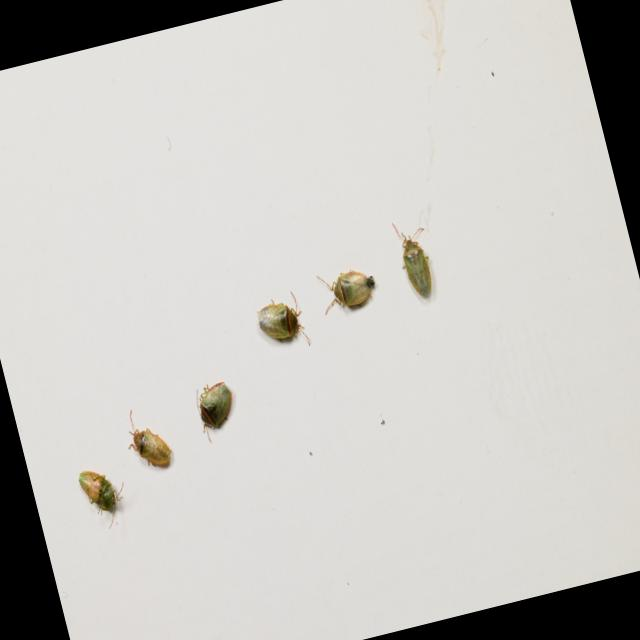stinkbug: (390, 215, 440, 304), (76, 461, 134, 536), (117, 402, 174, 476), (253, 289, 310, 356), (191, 377, 242, 443)
